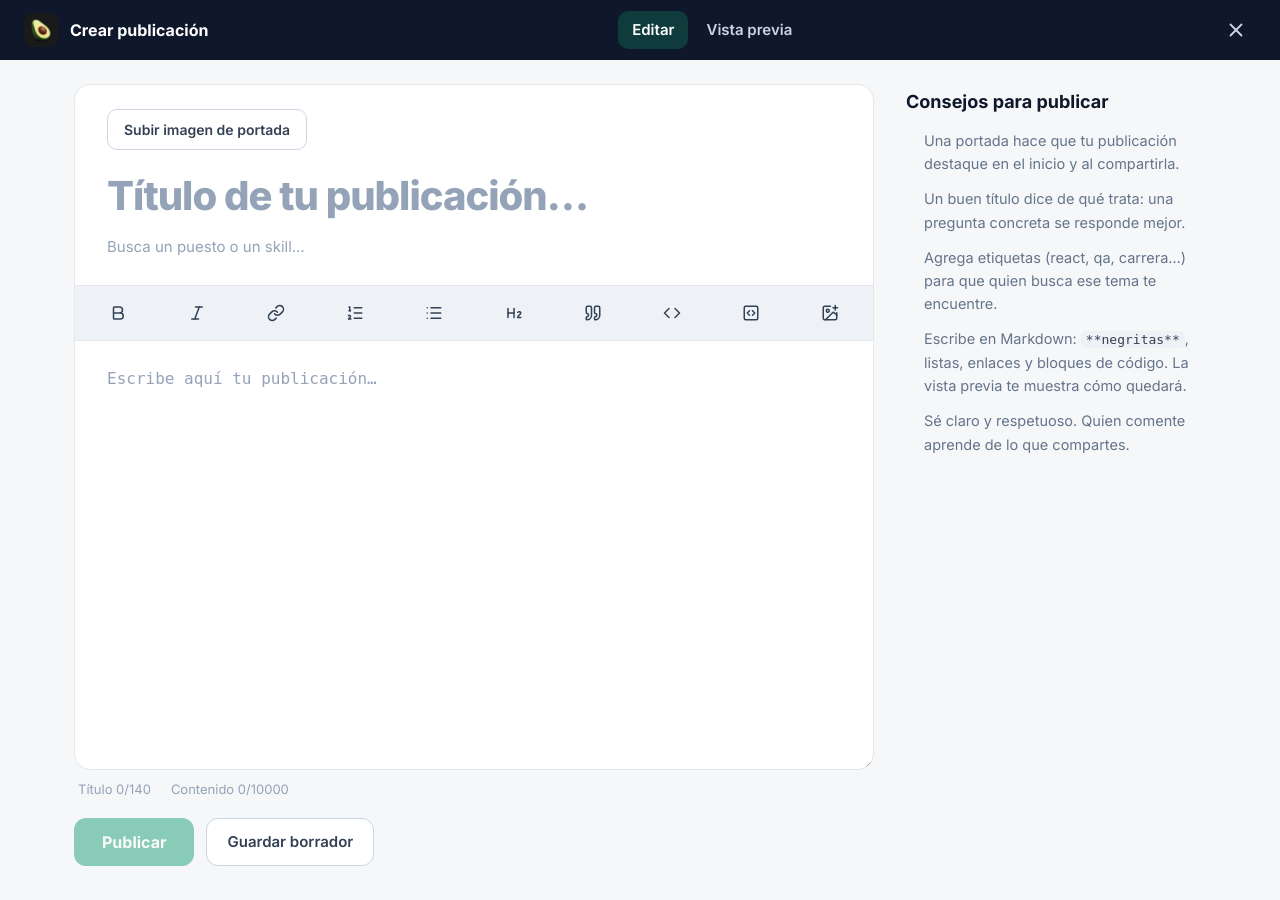
Scenario: PublishForm › cannot publish until the title and the content are long enough
Check: the button "Publicar" is disabled, box [74,818,194,866]
Step 1. Type "corto" into the text box labelled "Título" → [474, 191], box [75,158,873,224]
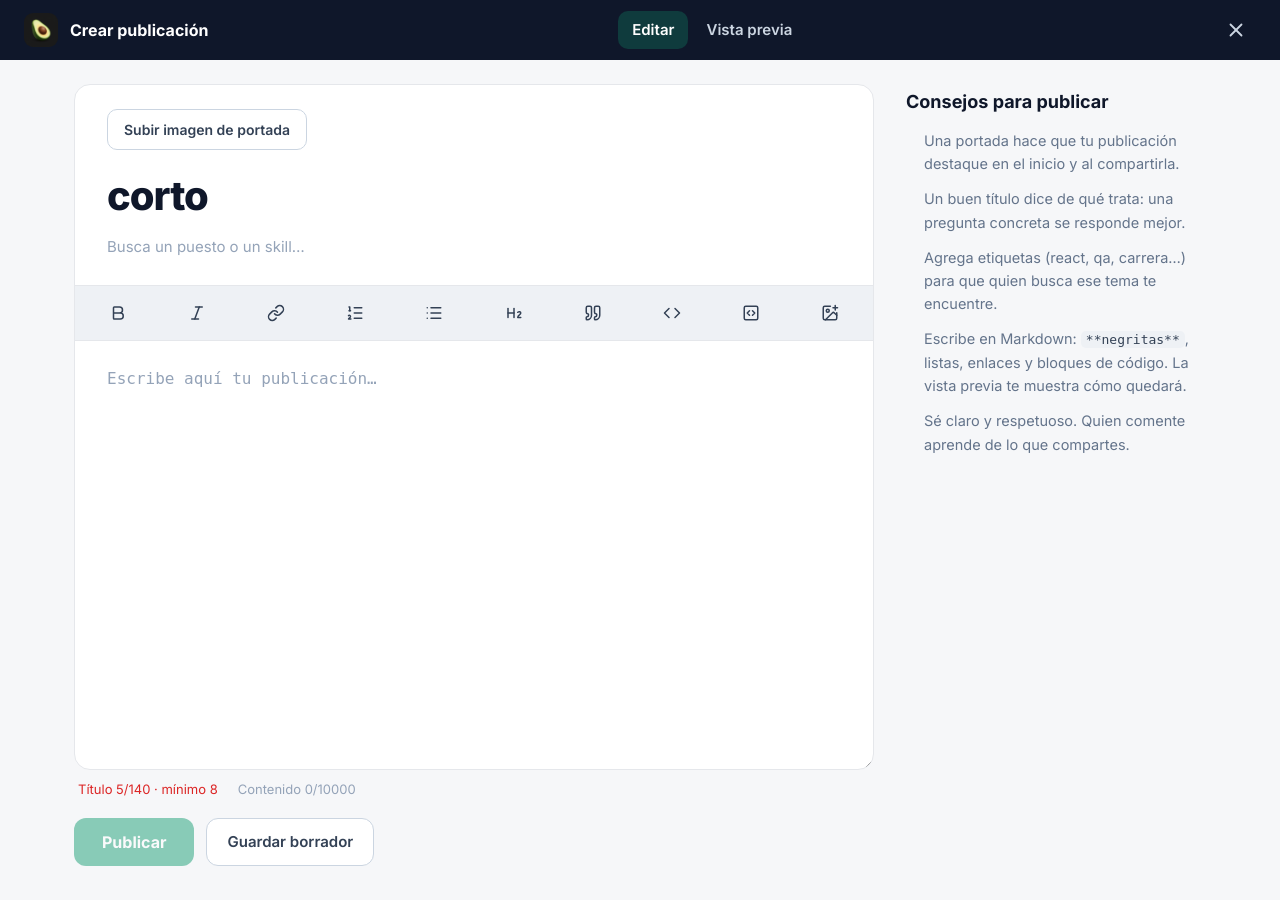
Step 2. Type "poco" into the text box named "Contenido" → [474, 555], box [75,340,873,769]
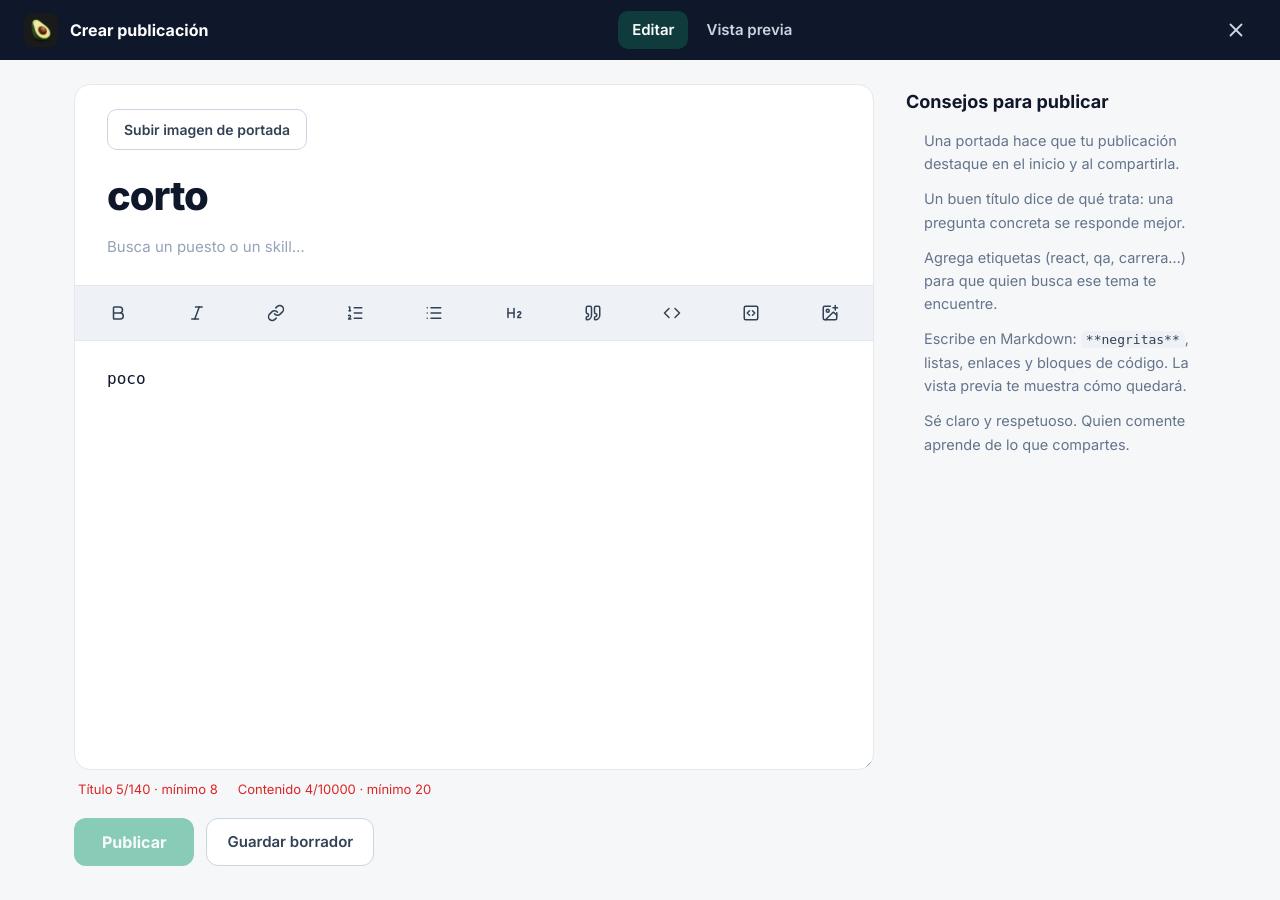
Check: the button "Publicar" is disabled, box [74,818,194,866]
Step 3. Replace the text in the text box named "Título" with "¿Cómo estructuran sus pruebas?" → [474, 191], box [75,158,873,224]
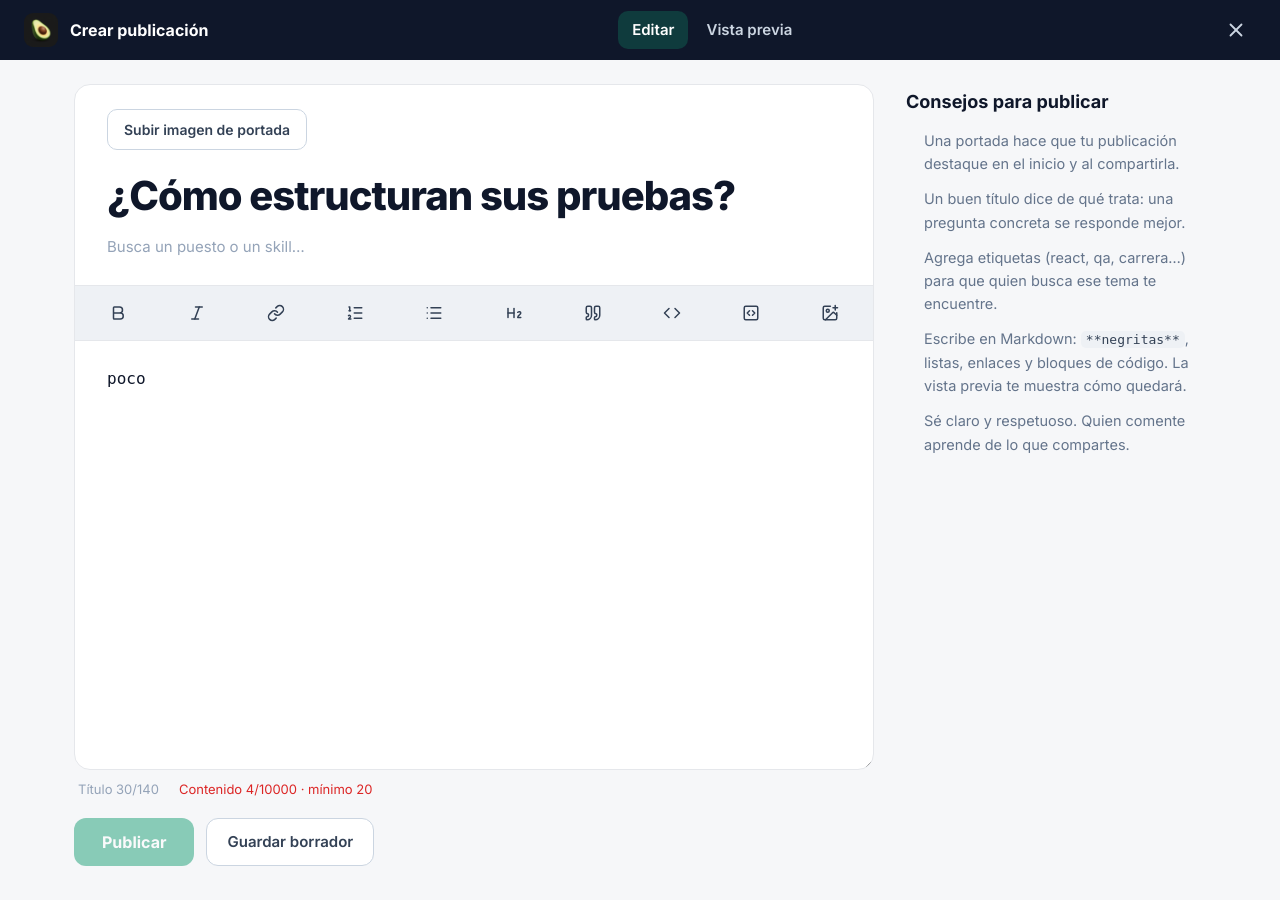
Step 4. Replace the text in the text box named "Contenido" with "Estoy armando la estrategia de pruebas de un equipo nuevo y quiero saber cómo lo hacen ustedes." → [474, 555], box [75,340,873,769]
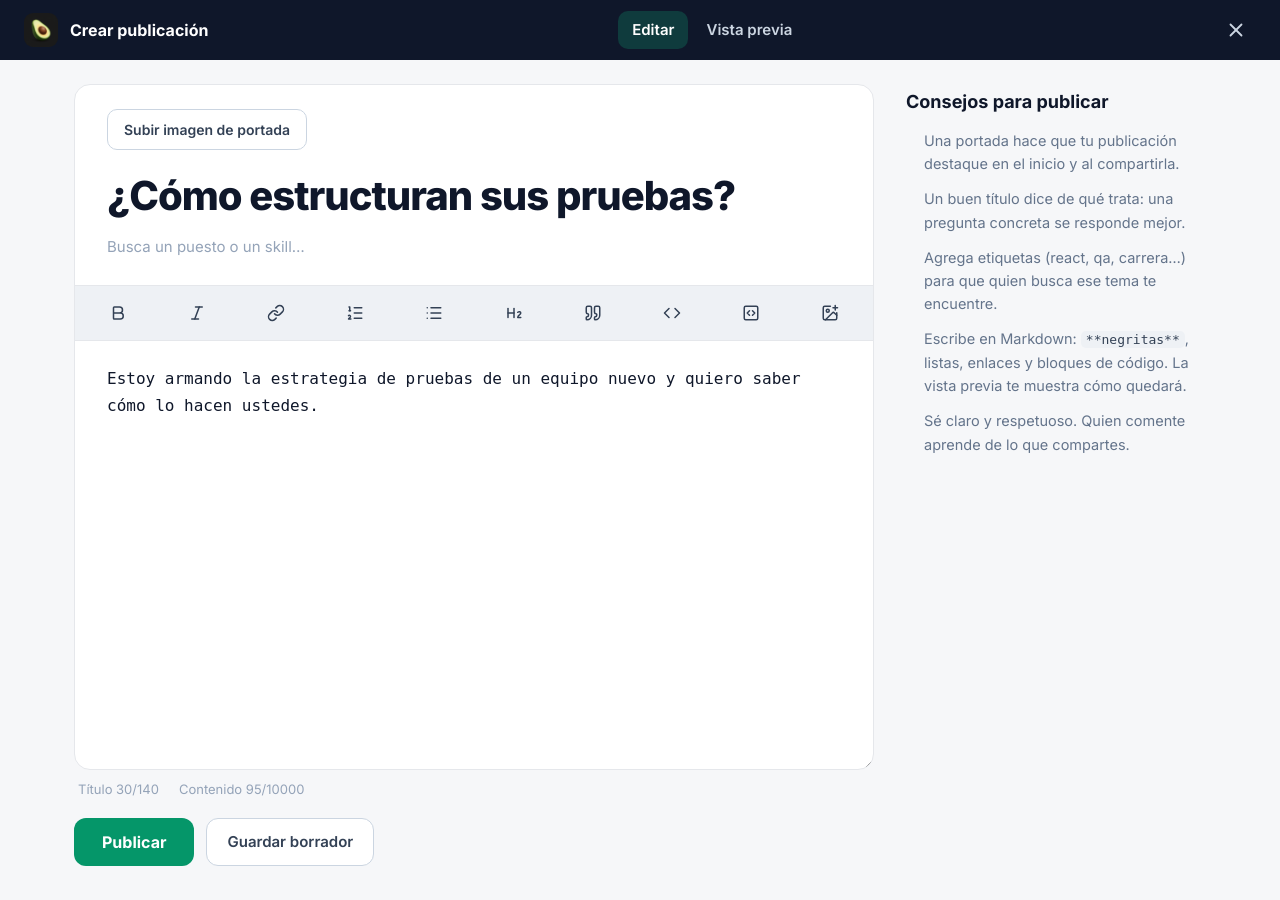
Check: the button "Publicar" is enabled, box [74,818,194,866]
